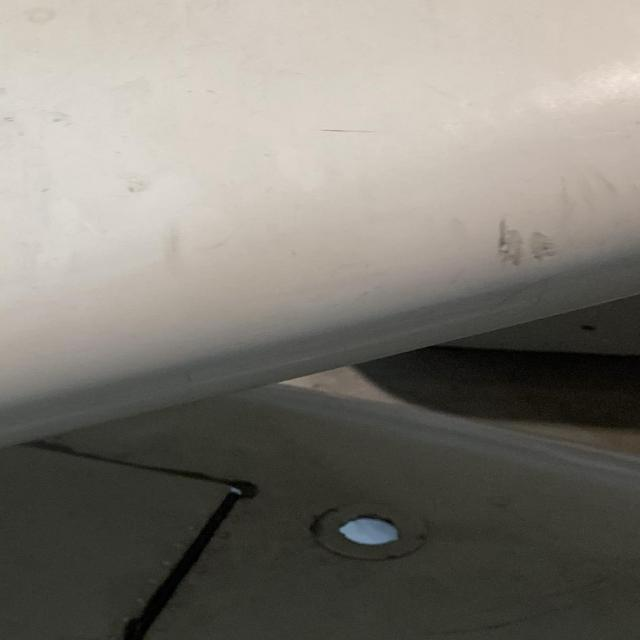Paint-off: (501, 219, 528, 266), (526, 230, 561, 260)
